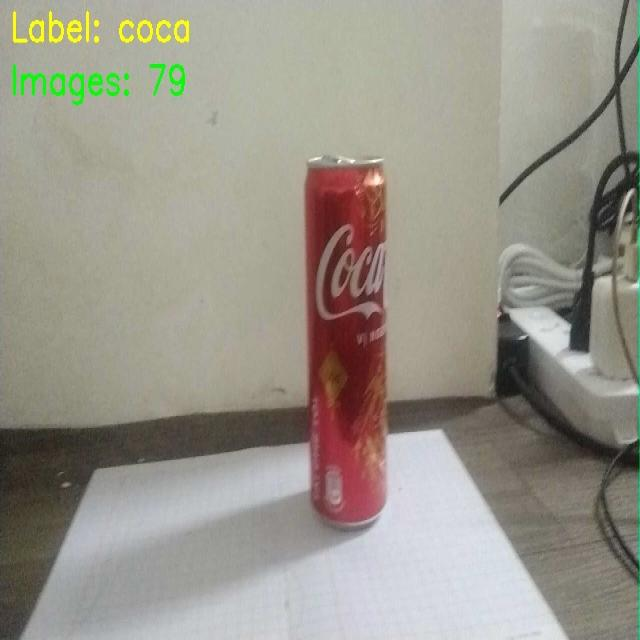Coca: (296, 135, 430, 542)
